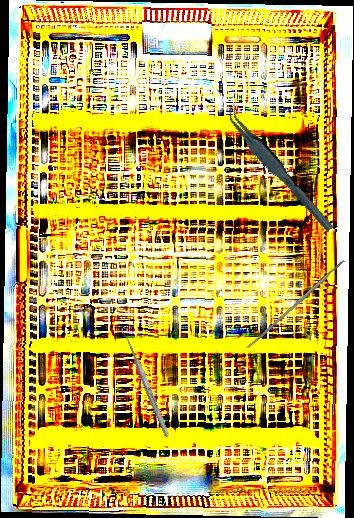Scalpel Handle: (246, 259, 346, 350)
Surgical Spoon: (120, 325, 171, 439)
Tissue Forceps: (222, 94, 335, 243)
